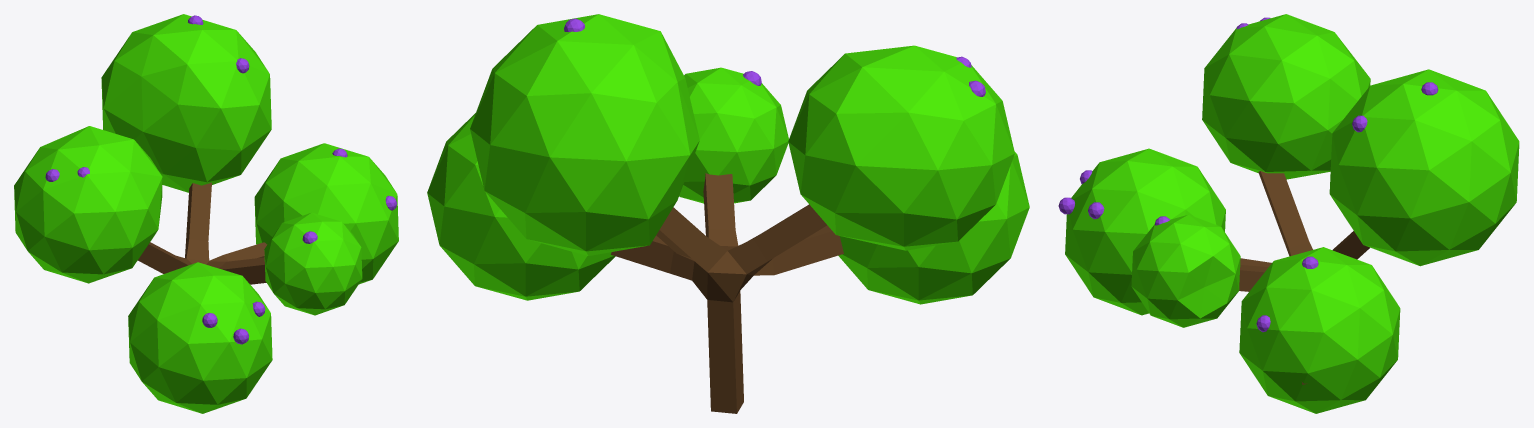
File: krzak_jagody1.fbx
3 renders of one model, left to right at view 1: azimuth 30°, elevation 25°; view 2: azimuth 150°, elevation 25°; view 3: azimuth 270°, elevation 25°, orthographic. The views are drawn at different scales.
Parts seen in each view (by area): view 1: liscie, Cube; view 2: liscie, Cube; view 3: liscie, Cube.
Part boxes in pixels (x1,y1,x2,y2): liscie: (14, 14, 398, 413); Cube: (138, 182, 267, 284); liscie: (427, 14, 1029, 304); Cube: (611, 173, 843, 413); liscie: (1065, 14, 1519, 413); Cube: (1239, 171, 1369, 384).
Bounding box in the file's own units: 1141 × 870 × 1071.
